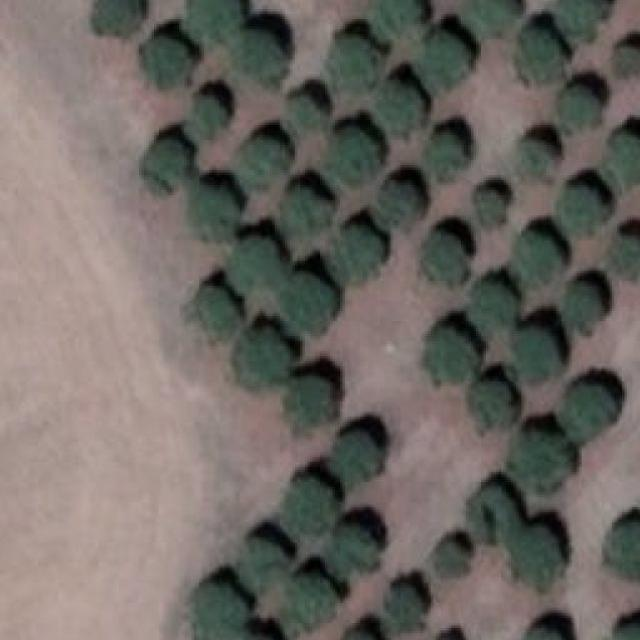Tree: (508, 430, 577, 493), (193, 579, 258, 640), (229, 326, 295, 386), (511, 24, 570, 85), (233, 27, 287, 91), (282, 573, 340, 631), (275, 477, 333, 532), (465, 482, 518, 542), (282, 273, 335, 331), (508, 326, 559, 386), (327, 128, 382, 183), (556, 183, 612, 237), (228, 238, 282, 294), (511, 527, 562, 586), (329, 34, 382, 90), (188, 185, 242, 239), (374, 82, 428, 136), (426, 326, 474, 386), (563, 386, 619, 437), (335, 228, 386, 282), (284, 376, 337, 427), (189, 284, 238, 339), (144, 34, 192, 90), (372, 180, 431, 224), (280, 183, 335, 229), (421, 29, 466, 85), (335, 522, 386, 571), (513, 230, 562, 281), (239, 539, 288, 588), (426, 130, 471, 183), (239, 135, 285, 185), (468, 379, 513, 430), (185, 0, 240, 41), (425, 233, 468, 284), (471, 283, 516, 331), (332, 432, 375, 482), (466, 0, 521, 39), (602, 520, 640, 576), (384, 585, 428, 633), (558, 82, 599, 133), (143, 140, 186, 188), (600, 134, 640, 185), (184, 92, 225, 138), (558, 0, 607, 37), (380, 0, 426, 39), (563, 284, 604, 327), (287, 94, 330, 135), (95, 0, 144, 34), (471, 190, 509, 231), (518, 140, 556, 180), (610, 235, 640, 281), (433, 540, 468, 578), (614, 44, 640, 82), (523, 625, 574, 640), (610, 623, 640, 640)
